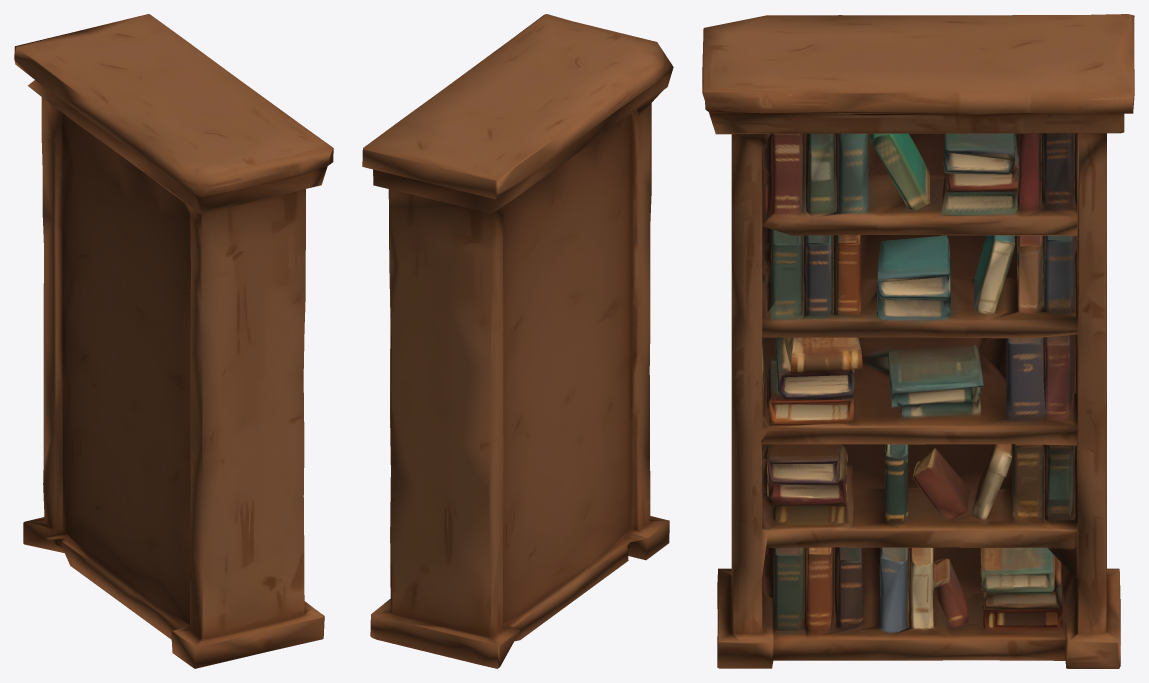
The model's file is bookshelf.glb.
3 renders of one model, left to right at view 1: azimuth 30°, elevation 25°; view 2: azimuth 150°, elevation 25°; view 3: azimuth 270°, elevation 25°, orthographic. The views are drawn at different scales.
Parts seen in each view (by area): view 1: tripo_node_bf31d8bf-a95a-4745-b405-9fdba3e171be; view 2: tripo_node_bf31d8bf-a95a-4745-b405-9fdba3e171be; view 3: tripo_node_bf31d8bf-a95a-4745-b405-9fdba3e171be.
Part boxes in pixels (x1,y1,x2,y2): tripo_node_bf31d8bf-a95a-4745-b405-9fdba3e171be: (14, 14, 333, 668); tripo_node_bf31d8bf-a95a-4745-b405-9fdba3e171be: (362, 14, 673, 668); tripo_node_bf31d8bf-a95a-4745-b405-9fdba3e171be: (702, 14, 1134, 668).
Size of the model in its own units: 0.2887 by 1 by 0.6758.
Materials: 1 (1 with a texture image).
